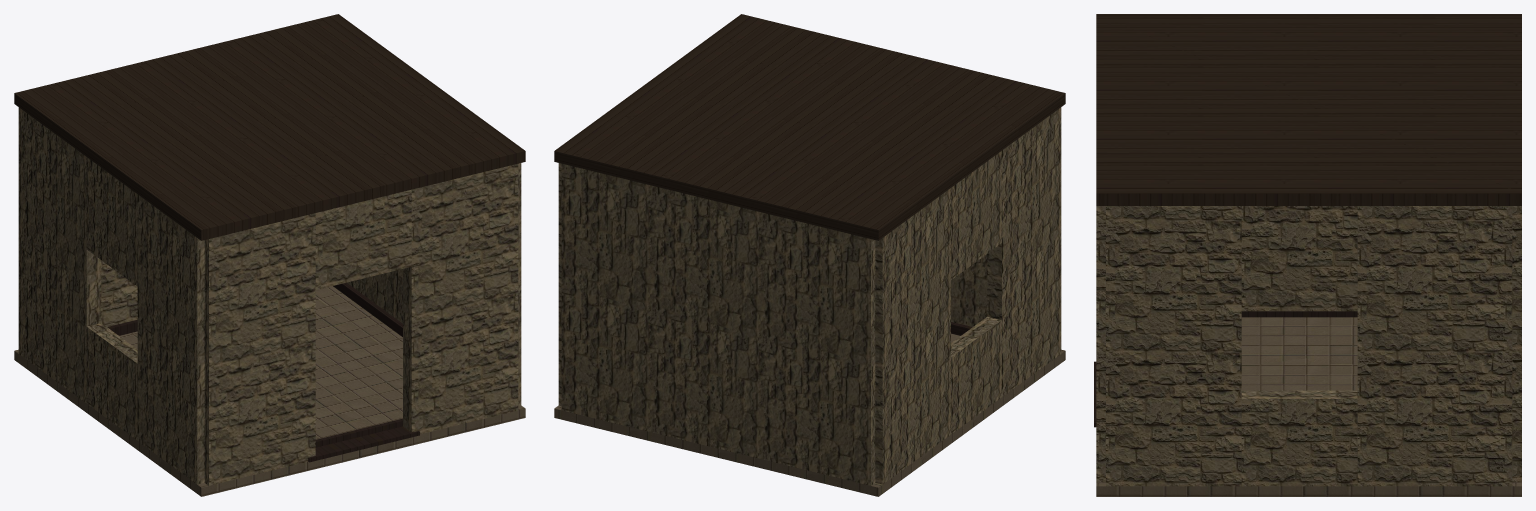
Rendered from int_stone_tower_01.glb.
3 renders of one model, left to right at view 1: azimuth 30°, elevation 25°; view 2: azimuth 150°, elevation 25°; view 3: azimuth 270°, elevation 25°, orthographic. The views are drawn at different scales.
Visible parts, largest first — view 1: int_stone_tower_01; view 2: int_stone_tower_01; view 3: int_stone_tower_01.
Boxes of the visible parts, x1,y1,x2,y2 form: int_stone_tower_01: (14,14,525,496); int_stone_tower_01: (554,14,1065,496); int_stone_tower_01: (1094,14,1521,496).
Bounding box in the file's own units: 4.4 × 3.46 × 4.42.
Materials: 5 (5 with a texture image).
